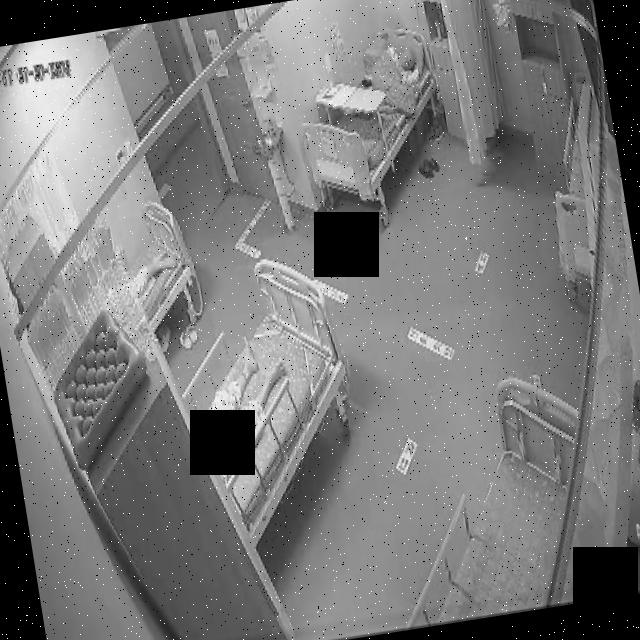bed: (370, 364, 608, 630), (173, 251, 368, 545), (290, 26, 452, 208), (119, 198, 202, 334)
lie: (183, 330, 300, 486), (335, 35, 430, 132)
patient: (185, 330, 299, 486), (381, 36, 424, 92)
